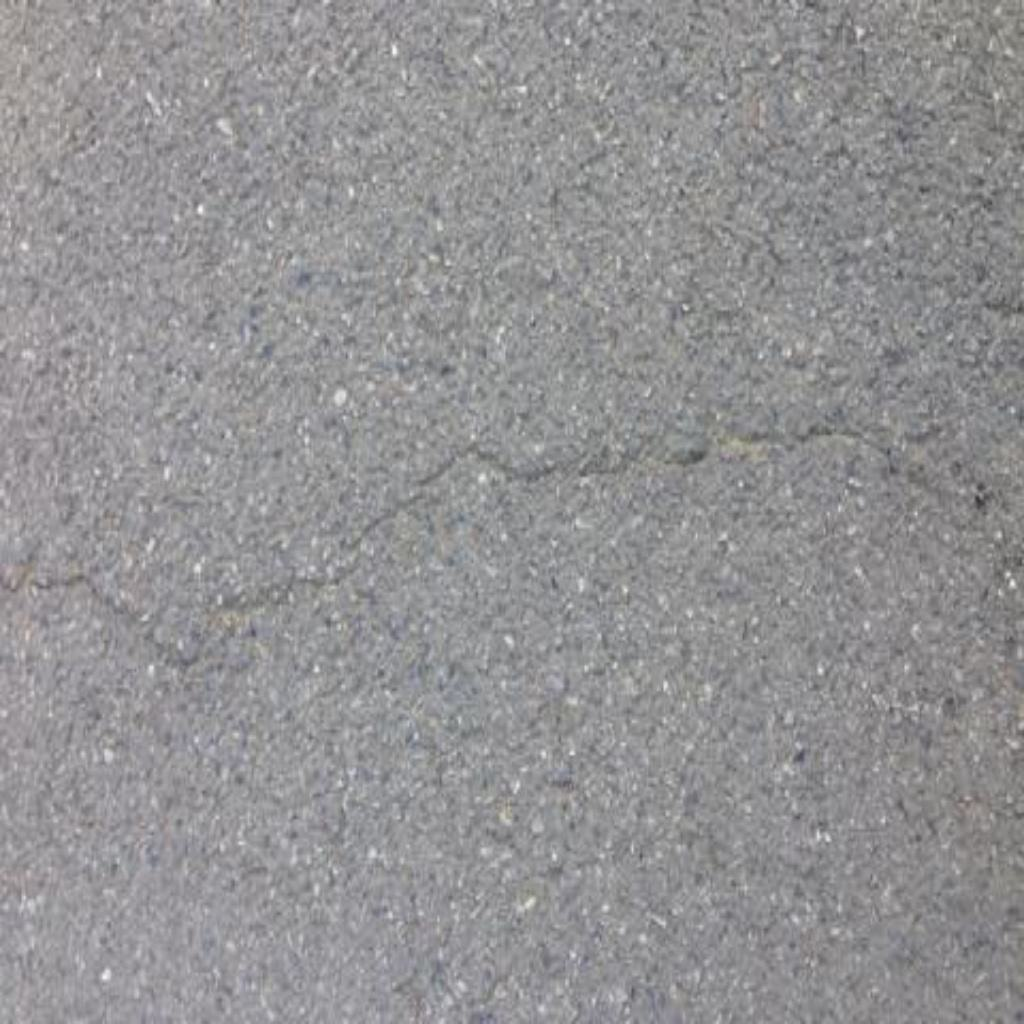Crack: (27, 424, 891, 672)
